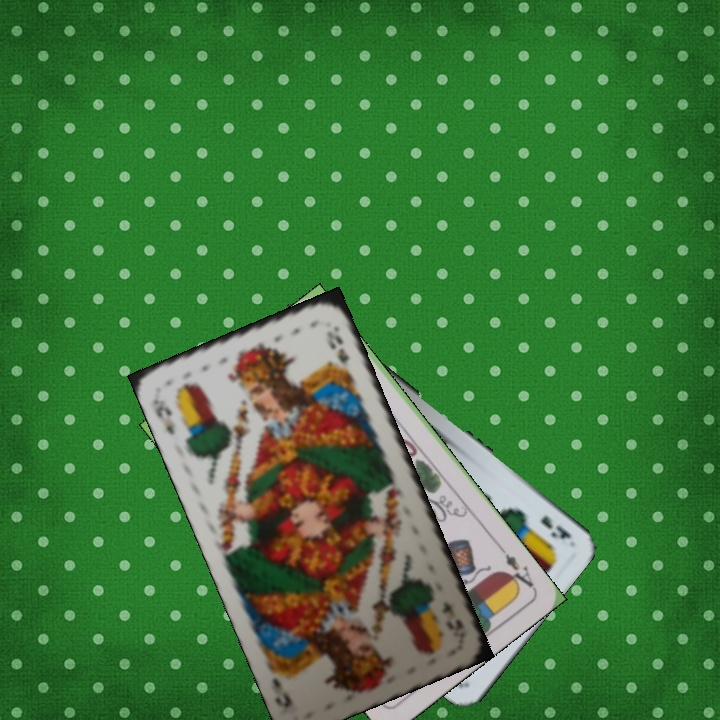EA: (495, 542, 538, 594)
EK: (147, 391, 178, 438), (536, 511, 575, 542), (438, 597, 463, 638)
